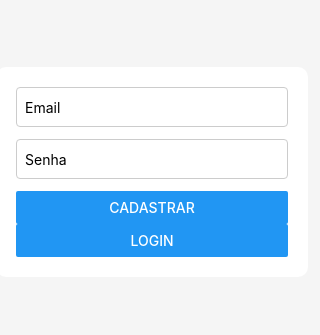
handles device deletion
// Preenche os campos de login e faz login
Type "test@example.com" into the field with test id "email-input".
click(152, 107); type("test@example.com")  # box [16,87,288,127]
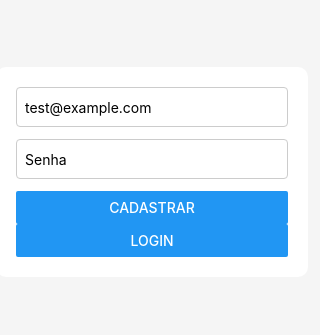
Type "password" into the password field with test id "password-input".
click(152, 159); type("password")  # box [16,139,288,179]
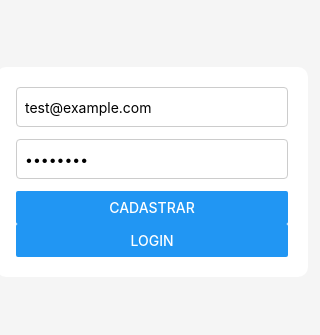
Click the button with test id "sign-in-button".
click(152, 240)  # box [16,224,288,257]
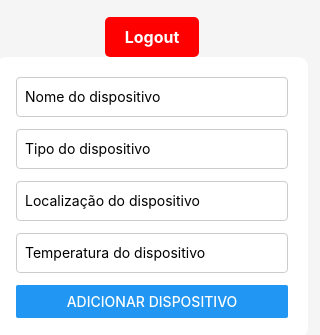
expect the element with test id "logout-button" is shown: met, box [105,16,199,56]
